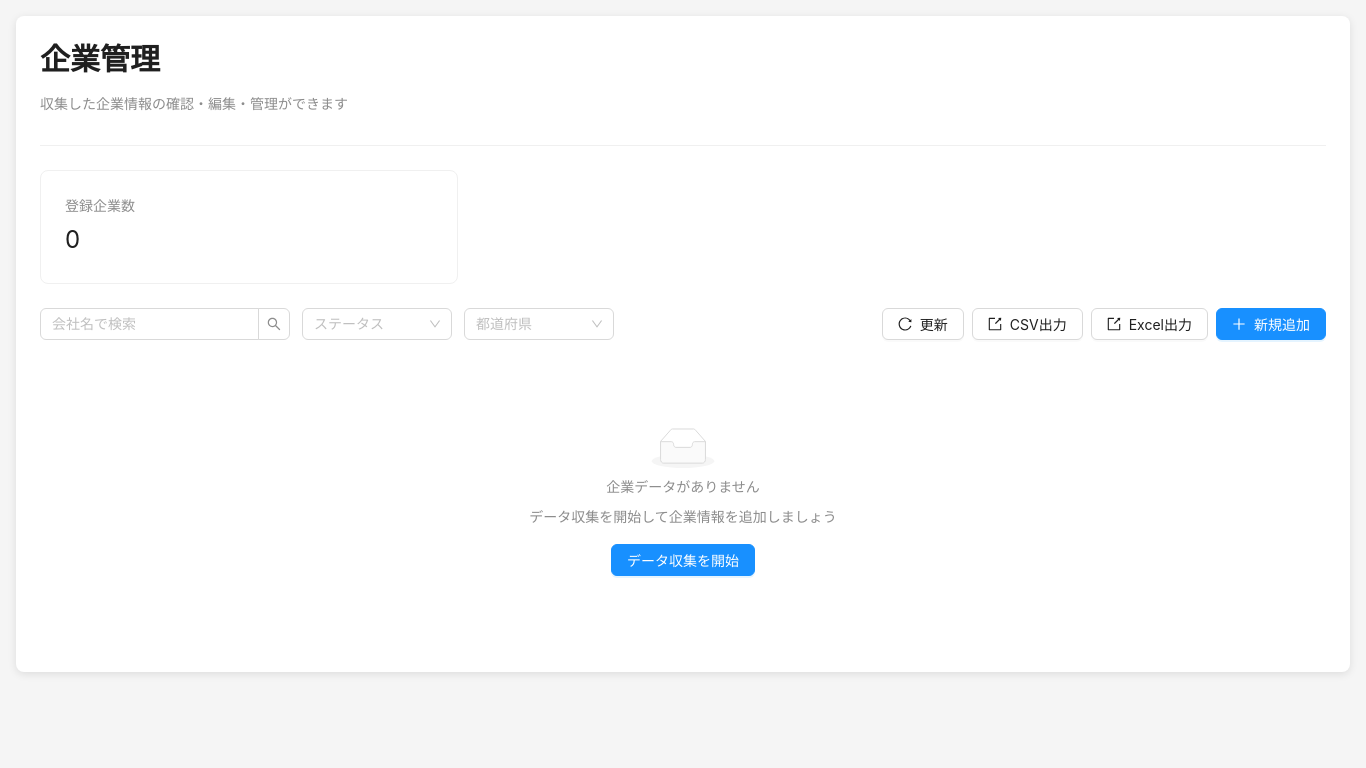
Test: CompaniesList › should open create modal when new company button clicked
Click the button "新規追加" at (1271, 324), box [1216,308,1326,340]
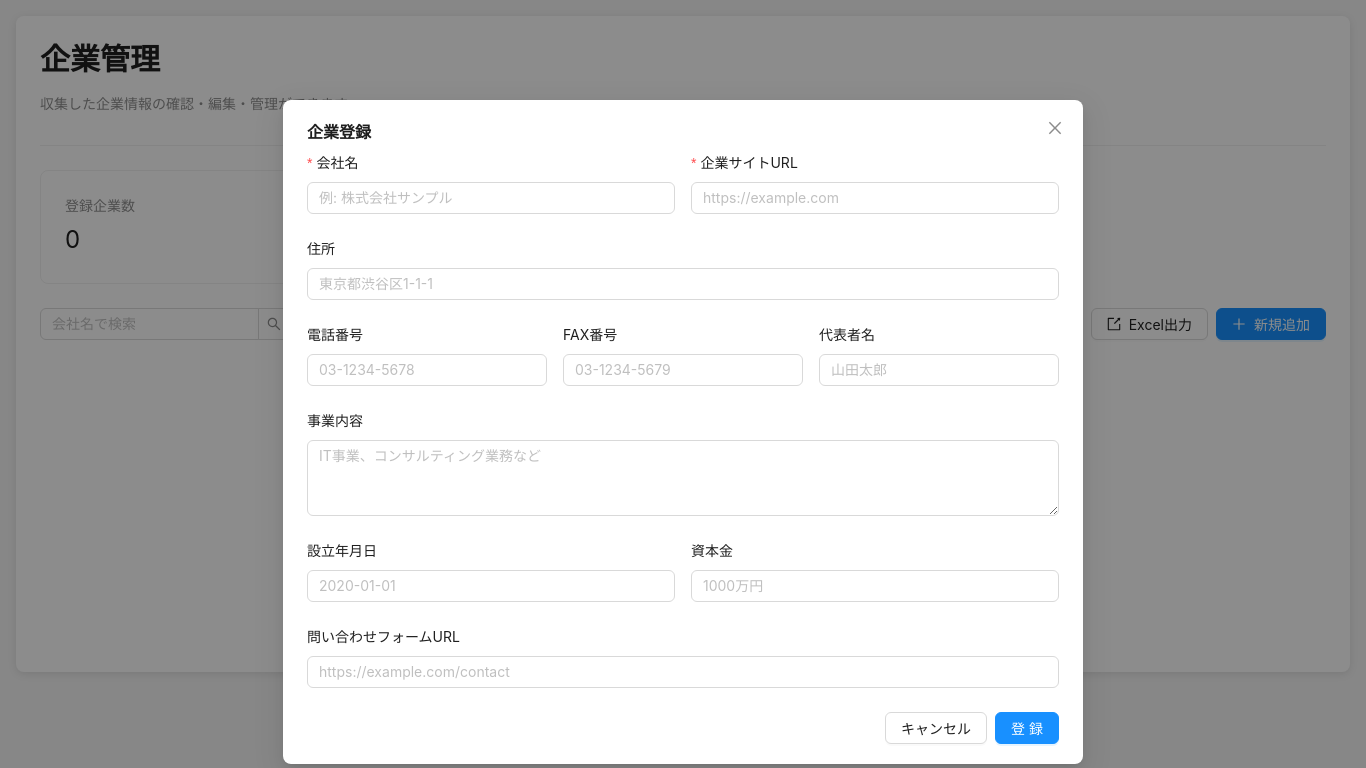
Expected: the text "企業登録" is shown, [307,122,371,142]
